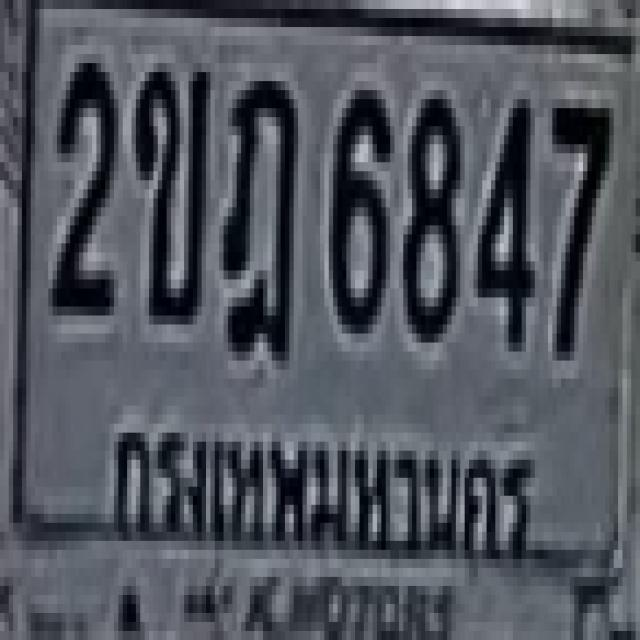-: (219, 72, 294, 352), (132, 54, 206, 316)
2: (48, 54, 114, 307)
4: (474, 90, 530, 343)
6: (329, 81, 386, 325)
7: (548, 99, 609, 352)
8: (399, 90, 456, 334)
BKK: (96, 394, 549, 599)
